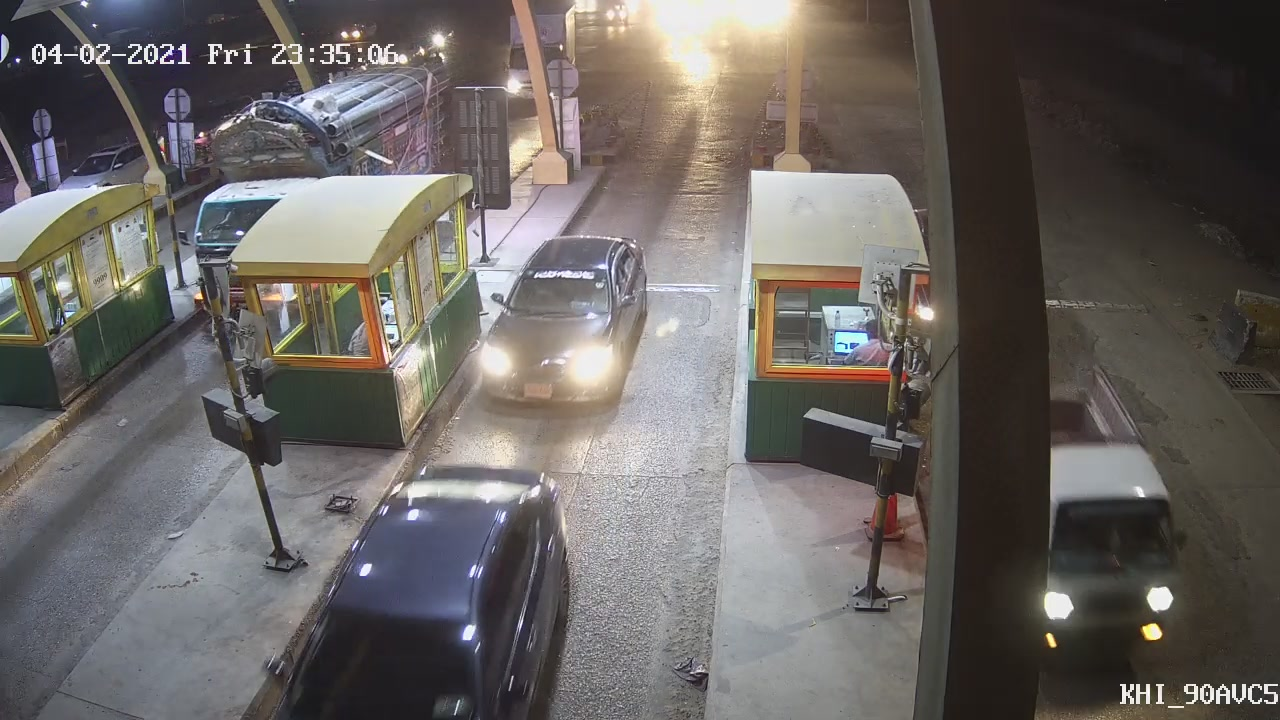F1: (471, 225, 657, 412)
